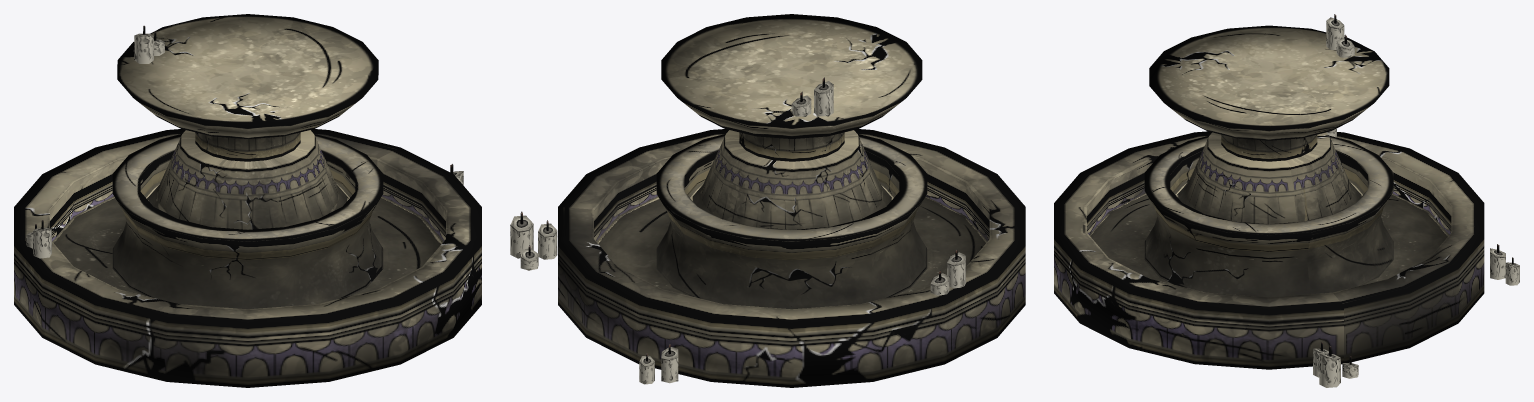
The model's file is M_Fountain.FBX.
The picture shows the model from 3 angles, left to right: view 1: azimuth 30°, elevation 25°; view 2: azimuth 150°, elevation 25°; view 3: azimuth 270°, elevation 25°; orthographic projection. The views are drawn at different scales.
Parts seen in each view (by area): view 1: Cylinder001; view 2: Cylinder001; view 3: Cylinder001.
Part boxes in pixels (x1=…): Cylinder001: x1=14, y1=14, x2=481, y2=387; Cylinder001: x1=510, y1=14, x2=1025, y2=387; Cylinder001: x1=1054, y1=14, x2=1519, y2=387.
Bounding box in the file's own units: 11.82 × 6.31 × 11.46.
